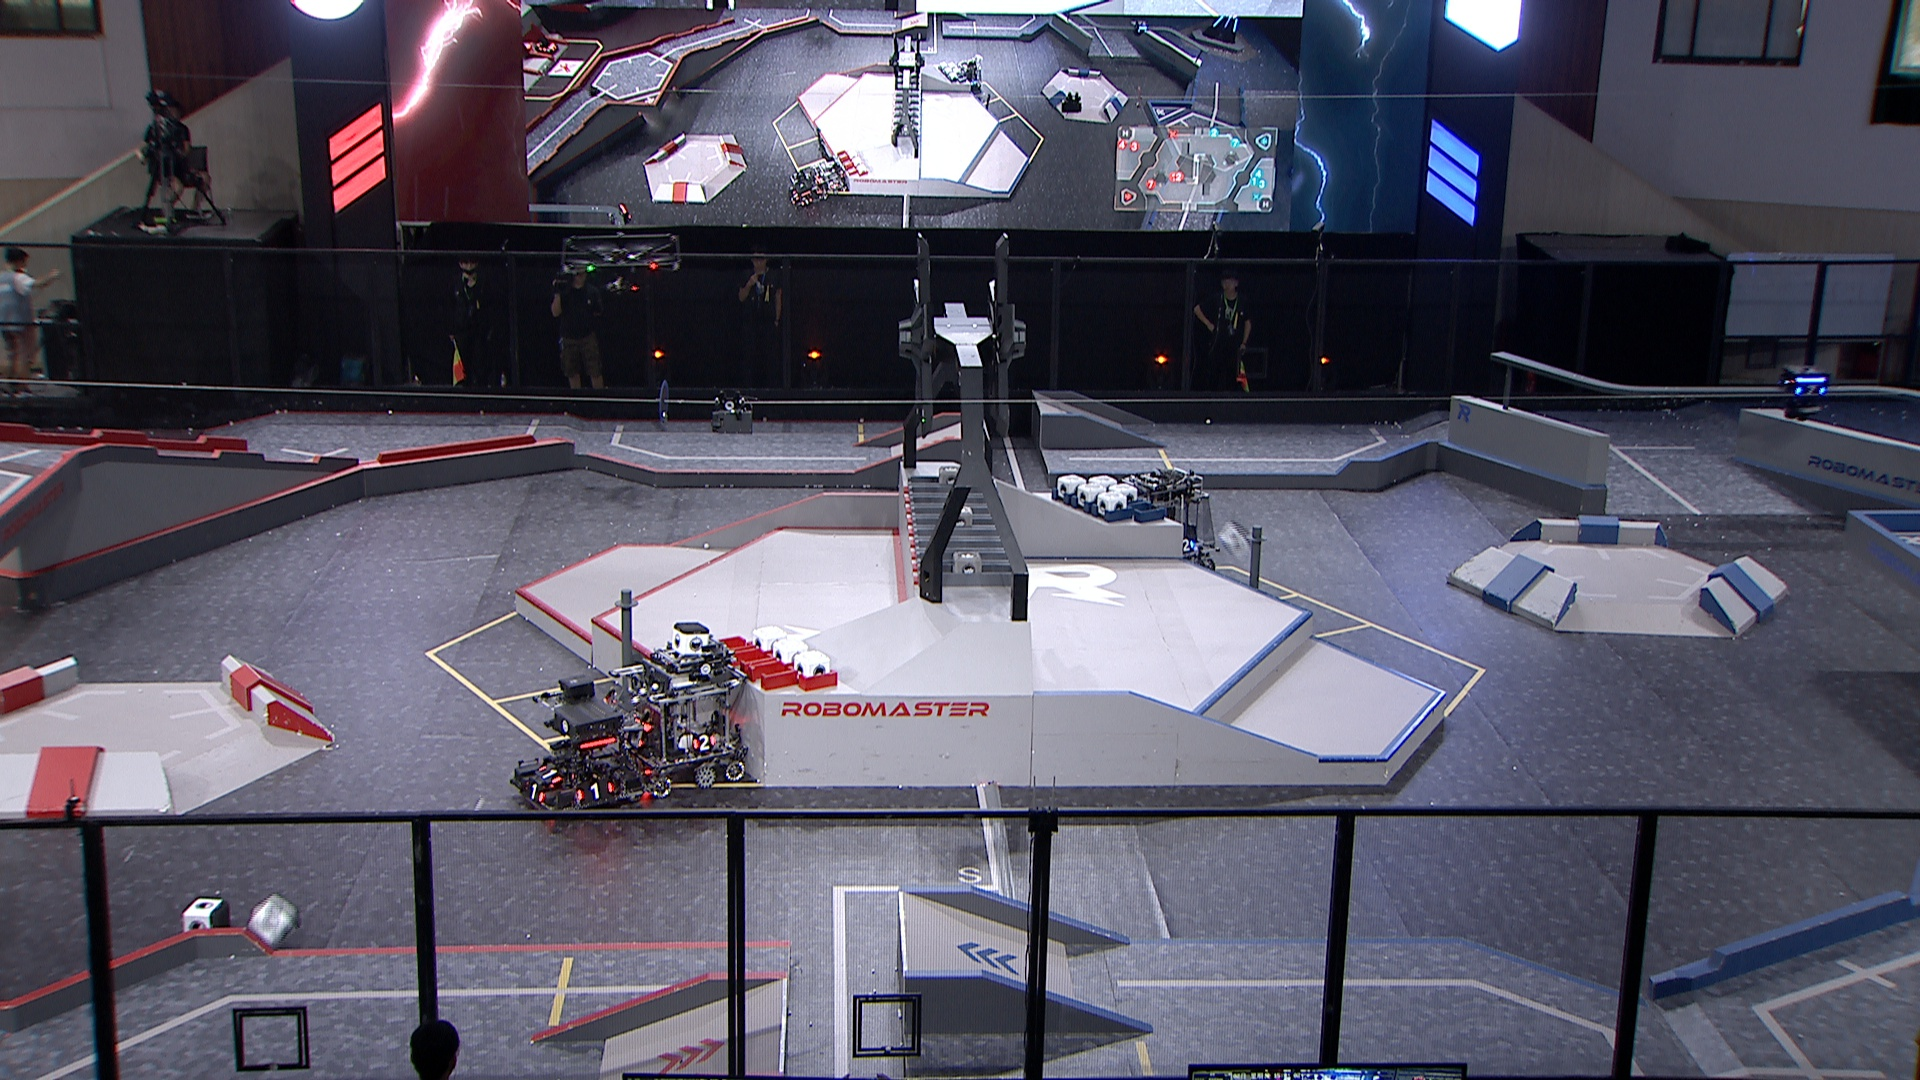armor: (574, 779, 615, 802), (537, 761, 564, 785), (688, 732, 717, 752), (522, 778, 546, 802), (1793, 385, 1826, 400), (1179, 538, 1196, 553)
car: (506, 674, 659, 828), (604, 642, 749, 799), (1106, 465, 1220, 578)
ignore: (787, 167, 827, 210), (811, 160, 851, 199), (949, 55, 986, 98), (1200, 15, 1240, 45), (604, 204, 633, 229)
watcher: (1780, 363, 1833, 419)
